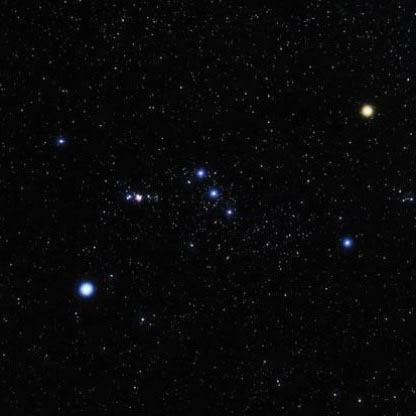Orion: (40, 128, 79, 161), (69, 272, 104, 307), (352, 95, 387, 126), (338, 230, 368, 262), (188, 162, 212, 185), (201, 184, 223, 202), (214, 202, 237, 218)
